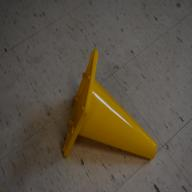cone: (62, 48, 158, 160)
